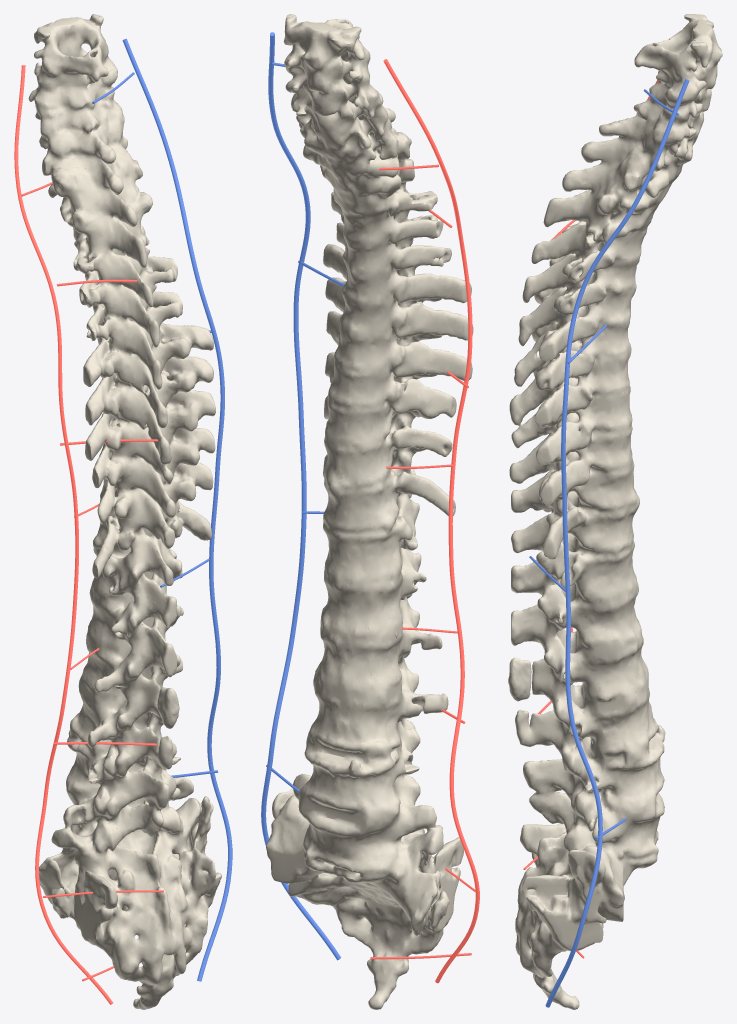
Rendered from spine.glb.
The picture shows the model from 3 angles, left to right: view 1: azimuth 30°, elevation 25°; view 2: azimuth 150°, elevation 25°; view 3: azimuth 270°, elevation 25°; orthographic projection. The views are drawn at different scales.
Parts seen in each view (by area): view 1: Object_2, Object_3, vein_posterior_main, artery_anterior_main; view 2: Object_2, Object_3, vein_posterior_main, artery_anterior_main; view 3: Object_2, Object_3, vein_posterior_main.
Part boxes in pixels (<box>): Object_2: <box>28,14,221,1009</box>; Object_3: <box>30,23,215,855</box>; vein_posterior_main: <box>122,38,232,981</box>; artery_anterior_main: <box>14,65,113,1004</box>; Object_2: <box>266,14,473,1009</box>; Object_3: <box>275,84,472,865</box>; vein_posterior_main: <box>261,32,340,960</box>; artery_anterior_main: <box>383,59,479,983</box>; Object_2: <box>509,14,722,1009</box>; Object_3: <box>508,40,709,875</box>; vein_posterior_main: <box>545,79,689,1007</box>.
Bounding box in the file's own units: 0.3255 × 1.5 × 0.2991.
